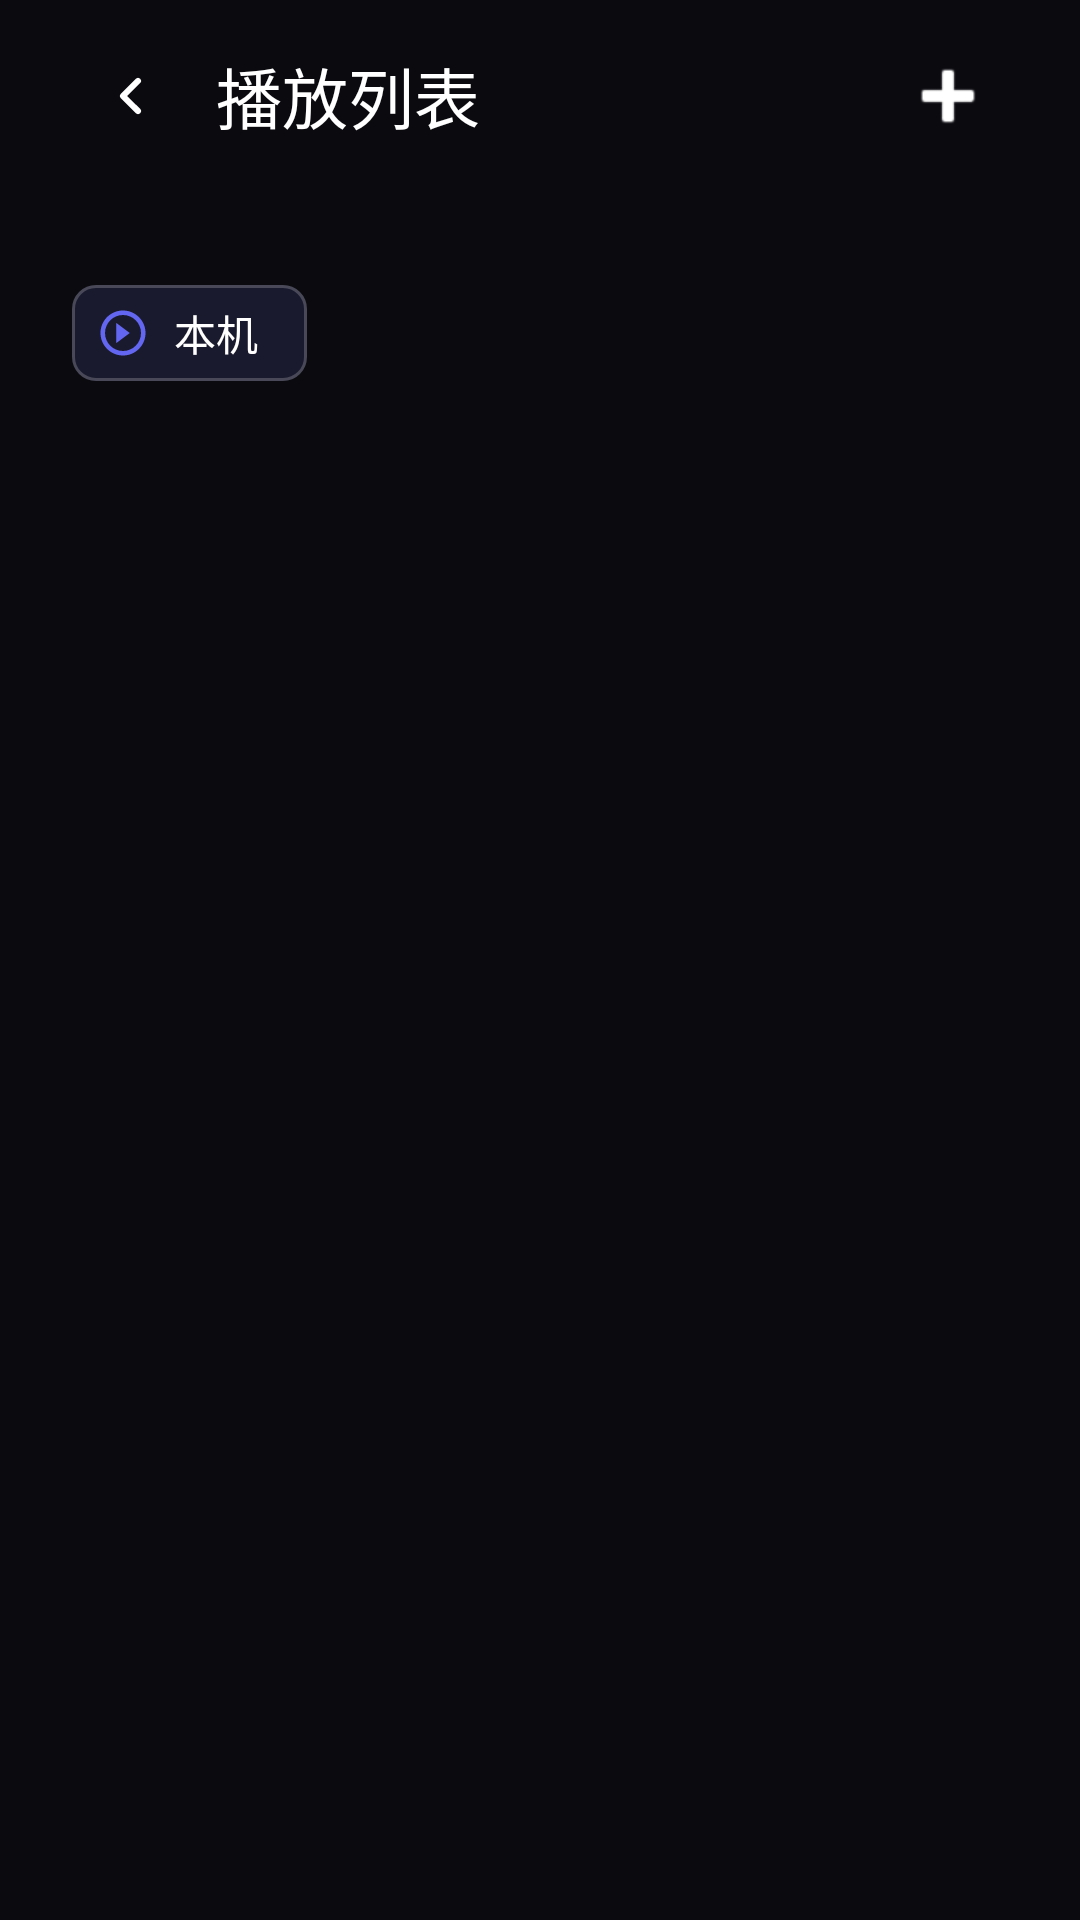

Locate icon controls on the screen. Image size 1080px×1920px, boxes as bbox(x1, y1, x2, y2).
返回: bbox(120, 78, 141, 114)
